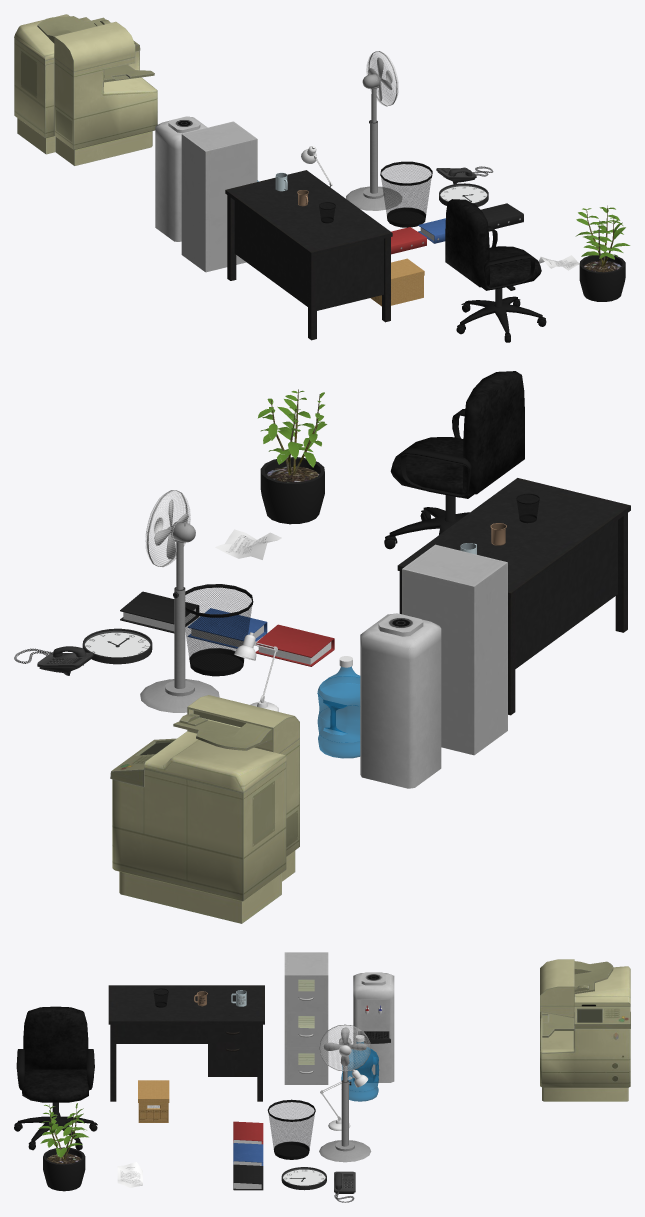
File: RetroOffice.glb
3 views of the same model, one above another, from view 1: azimuth 30°, elevation 25°; view 2: azimuth 150°, elevation 25°; view 3: azimuth 270°, elevation 25° (orthographic). The views are drawn at different scales.
Visible parts, largest first — view 1: Desk.004, Printer Base.003, Filing Cainet Base.015, Chair 1.001, Printer Top.003, Cooler.003, Pot.002, Trash can.003, Fan Body, Fan Head, Clock.001, File Box 1.005 (+5 smaller); view 2: Printer Base.003, Desk.004, Filing Cainet Base.015, Cooler.003, Chair 1.001, Printer Top.003, Pot.002, Trash can.003, Bottle.002, Fan Head, Fan Body, Binder.001 (+6 smaller); view 3: Desk.004, Printer Base.003, Chair 1.001, Cooler.003, Printer Top.003, Pot.002, Trash can.003, Filing Cainet Base.015, Fan Head, Bottom_Drawer.003, Bottle.002, Fan Body (+14 smaller).
Part boxes in pixels (box(x1,y1,x2,y2)): Desk.004: box(225, 170, 392, 340); Printer Base.003: box(14, 38, 157, 165); Filing Cainet Base.015: box(181, 121, 257, 272); Chair 1.001: box(445, 199, 546, 342); Printer Top.003: box(14, 14, 135, 71); Cooler.003: box(155, 116, 207, 241); Pot.002: box(575, 205, 630, 301); Trash can.003: box(380, 161, 432, 227); Fan Body: box(346, 120, 402, 210); Fan Head: box(362, 51, 398, 122); Clock.001: box(439, 183, 488, 206); File Box 1.005: box(370, 275, 423, 306); Printer Base.003: box(110, 738, 299, 923); Desk.004: box(397, 478, 630, 715); Filing Cainet Base.015: box(402, 544, 507, 755); Cooler.003: box(360, 613, 441, 788); Chair 1.001: box(384, 371, 524, 549); Printer Top.003: box(144, 695, 299, 792); Pot.002: box(257, 389, 327, 524); Trash can.003: box(185, 584, 253, 676); Bottle.002: box(317, 656, 360, 758); Fan Head: box(145, 490, 195, 589); Fan Body: box(140, 587, 219, 712); Binder.001: box(255, 624, 334, 666); Desk.004: box(108, 985, 264, 1101); Printer Base.003: box(540, 1006, 630, 1101); Chair 1.001: box(14, 1006, 97, 1150); Cooler.003: box(353, 972, 394, 1082); Printer Top.003: box(540, 959, 630, 1006); Pot.002: box(38, 1103, 88, 1191); Trash can.003: box(267, 1099, 315, 1159); Filing Cainet Base.015: box(284, 952, 328, 1084); Fan Head: box(319, 1024, 370, 1082); Bottom_Drawer.003: box(208, 1042, 257, 1076); Bottle.002: box(341, 1035, 379, 1101); Fan Body: box(319, 1080, 371, 1162).
Size of the model in its own units: 2.77 by 1.19 by 5.1.
Materials: 33 (29 with a texture image).
